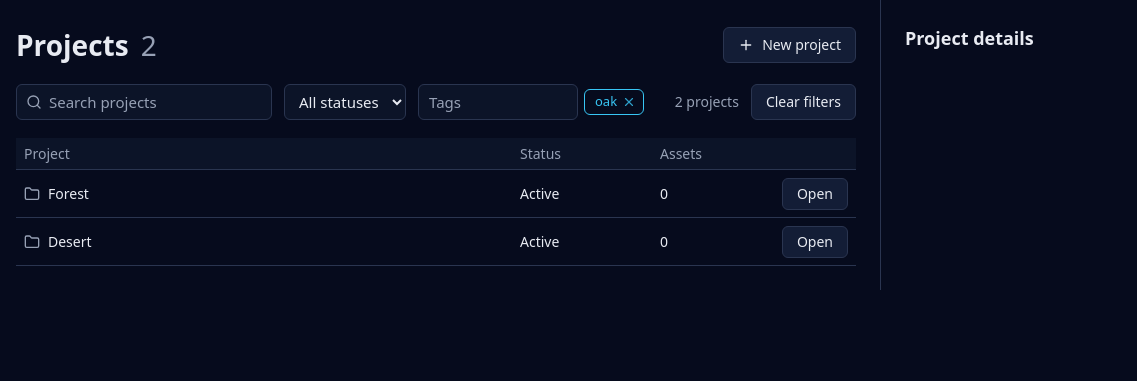
Test: Matching content shows only the answer for the current selection and reports failures
Expected: the text "Forest" is shown, [48,184,89,204]
Click the text "Forest": (436, 194) [16,170,856,218]
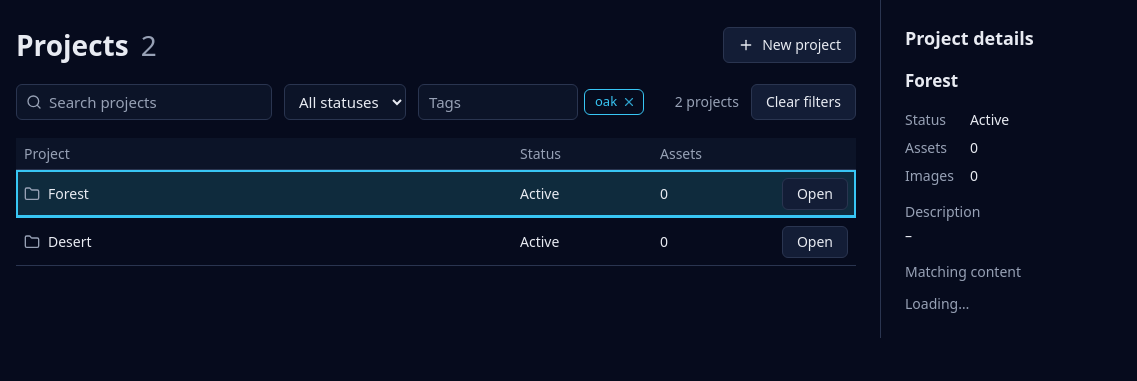
Click the text "Desert": (436, 242) [16,218,856,266]
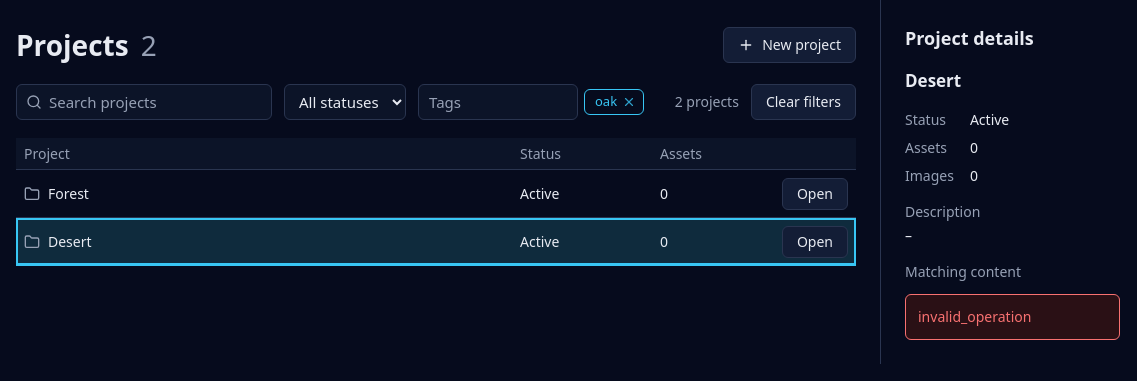
Expected: the message reads "invalid_operation", [918,306,1031,326]
Expected: the text "Desert" below "Project details" is shown, [905,69,961,92]
